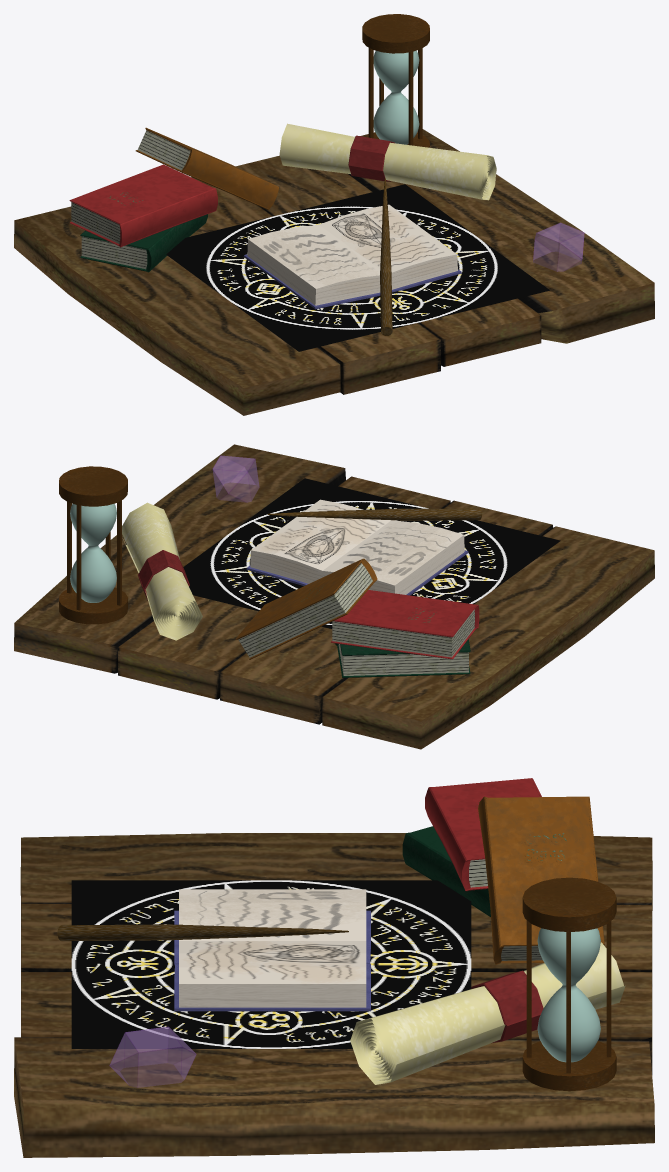
File: WizardTable.fbx
3 views of the same model, one above another, from view 1: azimuth 30°, elevation 25°; view 2: azimuth 150°, elevation 25°; view 3: azimuth 270°, elevation 25° (orthographic). The views are drawn at different scales.
Parts seen in each view (by area): view 1: SM_TableTop, SM_Magic, SM_Book, SM_Scroll, SM_ClosedBook1, SM_HourGlassOutside1, SM_ClosedBook2, SM_ClosedBook, SM_Crystal, SM_Wand; view 2: SM_TableTop, SM_Magic, SM_Book, SM_HourGlassOutside1, SM_ClosedBook1, SM_Scroll, SM_ClosedBook2, SM_ClosedBook, SM_Wand, SM_Crystal; view 3: SM_TableTop, SM_Magic, SM_Book, SM_HourGlassOutside1, SM_Scroll, SM_ClosedBook2, SM_ClosedBook1, SM_Crystal, SM_Wand, SM_ClosedBook.
Boxes of the visible parts, x1=… form: SM_TableTop: x1=14, y1=129, x2=654, y2=415; SM_Magic: x1=166, y1=184, x2=549, y2=351; SM_Book: x1=243, y1=204, x2=461, y2=309; SM_Scroll: x1=279, y1=123, x2=496, y2=200; SM_ClosedBook1: x1=69, y1=164, x2=217, y2=247; SM_HourGlassOutside1: x1=362, y1=14, x2=429, y2=147; SM_ClosedBook2: x1=135, y1=127, x2=278, y2=209; SM_ClosedBook: x1=80, y1=214, x2=207, y2=272; SM_Crystal: x1=533, y1=222, x2=584, y2=271; SM_Wand: x1=380, y1=178, x2=392, y2=335; SM_TableTop: x1=14, y1=444, x2=654, y2=749; SM_Magic: x1=183, y1=478, x2=560, y2=628; SM_Book: x1=246, y1=499, x2=468, y2=595; SM_HourGlassOutside1: x1=59, y1=466, x2=127, y2=624; SM_ClosedBook1: x1=331, y1=590, x2=479, y2=659; SM_Scroll: x1=122, y1=502, x2=202, y2=640; SM_ClosedBook2: x1=235, y1=558, x2=377, y2=659; SM_ClosedBook: x1=335, y1=639, x2=470, y2=677; SM_Wand: x1=267, y1=508, x2=481, y2=520; SM_Crystal: x1=212, y1=455, x2=259, y2=502; SM_TableTop: x1=14, y1=833, x2=654, y2=1157; SM_Magic: x1=71, y1=880, x2=471, y2=1048; SM_Book: x1=174, y1=889, x2=370, y2=1011; SM_HourGlassOutside1: x1=522, y1=877, x2=616, y2=1091; SM_Scroll: x1=350, y1=942, x2=625, y2=1084; SM_ClosedBook2: x1=478, y1=796, x2=604, y2=964; SM_ClosedBook1: x1=425, y1=778, x2=541, y2=891; SM_Crystal: x1=109, y1=1026, x2=196, y2=1087; SM_Wand: x1=57, y1=924, x2=348, y2=941; SM_ClosedBook: x1=402, y1=826, x2=490, y2=916.
Size of the model in its own units: 21.23 by 7.74 by 20.43.
